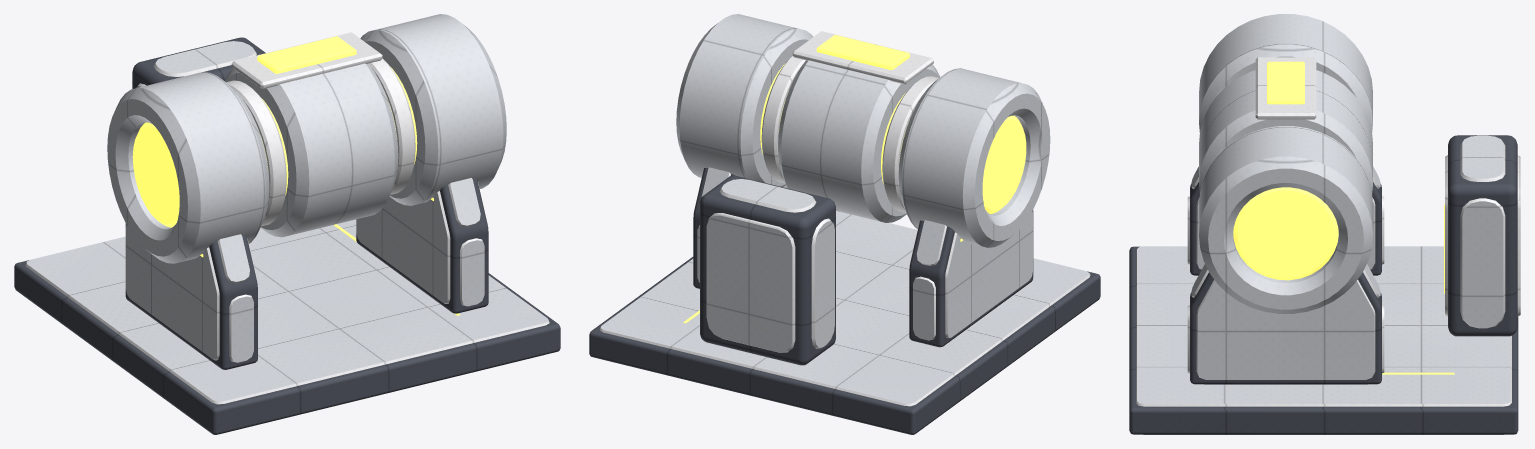
The model's file is R4X_Battery.glb.
3 views of the same model, side by side, from view 1: azimuth 30°, elevation 25°; view 2: azimuth 150°, elevation 25°; view 3: azimuth 270°, elevation 25° (orthographic). The views are drawn at different scales.
Visible parts, largest first — view 1: R4X_Battery_Body; view 2: R4X_Battery_Body; view 3: R4X_Battery_Body.
Part boxes in pixels (x1=…): R4X_Battery_Body: x1=14, y1=14, x2=560, y2=434; R4X_Battery_Body: x1=589, y1=14, x2=1100, y2=434; R4X_Battery_Body: x1=1129, y1=14, x2=1520, y2=434.
Size of the model in its own units: 0.514 by 0.402 by 0.517.
Materials: 4 (3 with a texture image).
